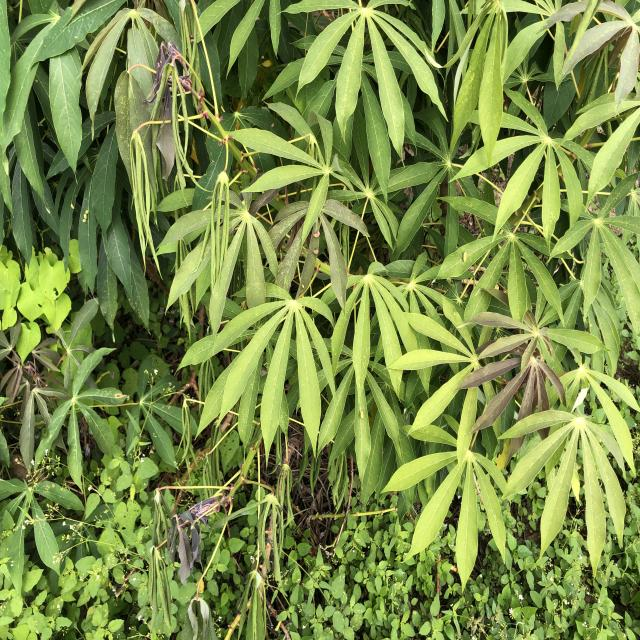Maleza: (100, 465, 277, 640), (220, 515, 411, 637), (375, 575, 640, 638), (0, 230, 86, 351)
Mosca: (59, 190, 91, 225), (351, 400, 370, 432), (456, 243, 475, 274), (310, 229, 324, 260), (294, 274, 305, 294)
